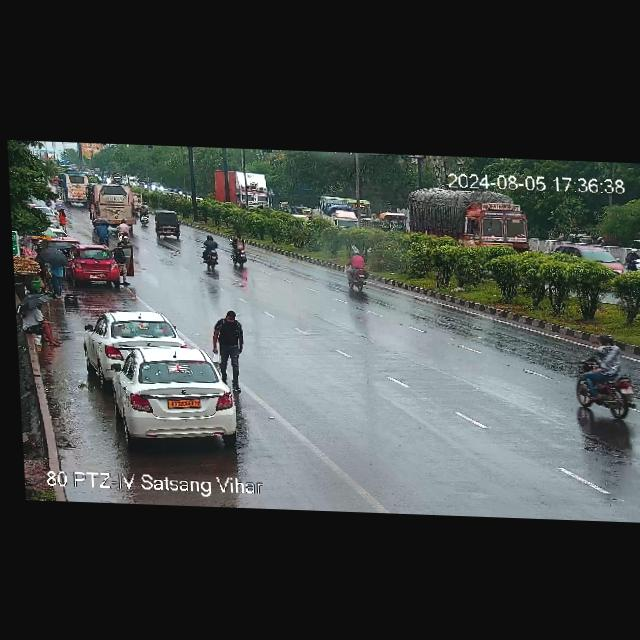bus: (82, 181, 141, 226), (318, 196, 372, 221), (58, 170, 91, 204)
car: (112, 347, 249, 452), (86, 309, 189, 370), (552, 238, 622, 271), (70, 251, 125, 284), (153, 211, 186, 241), (290, 204, 315, 221)
motorcycle: (576, 332, 639, 417), (343, 246, 370, 293), (196, 236, 227, 269), (224, 236, 255, 267), (625, 247, 640, 275)
person: (213, 306, 247, 368), (19, 304, 63, 346), (47, 251, 67, 296), (115, 219, 133, 247), (55, 206, 71, 232)
truck: (402, 186, 535, 254), (208, 170, 277, 211)
